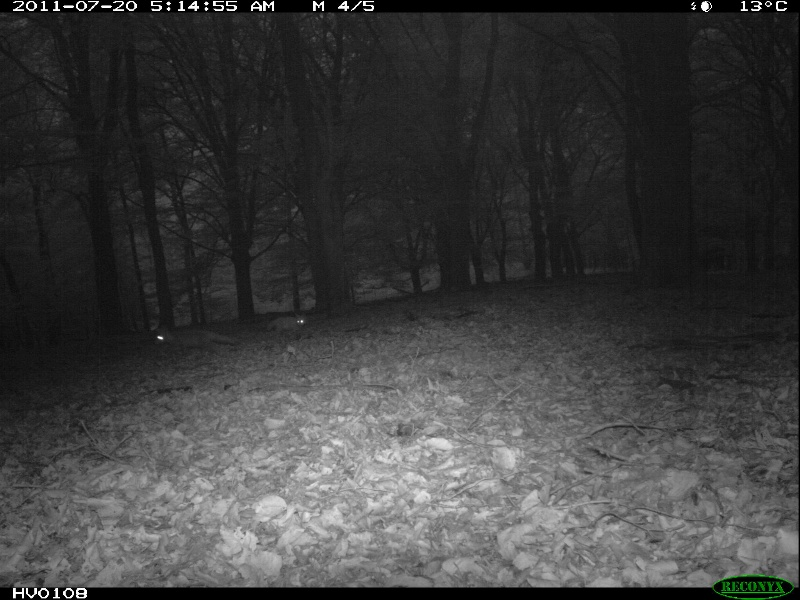fox: (154, 325, 238, 359), (267, 311, 310, 344)
